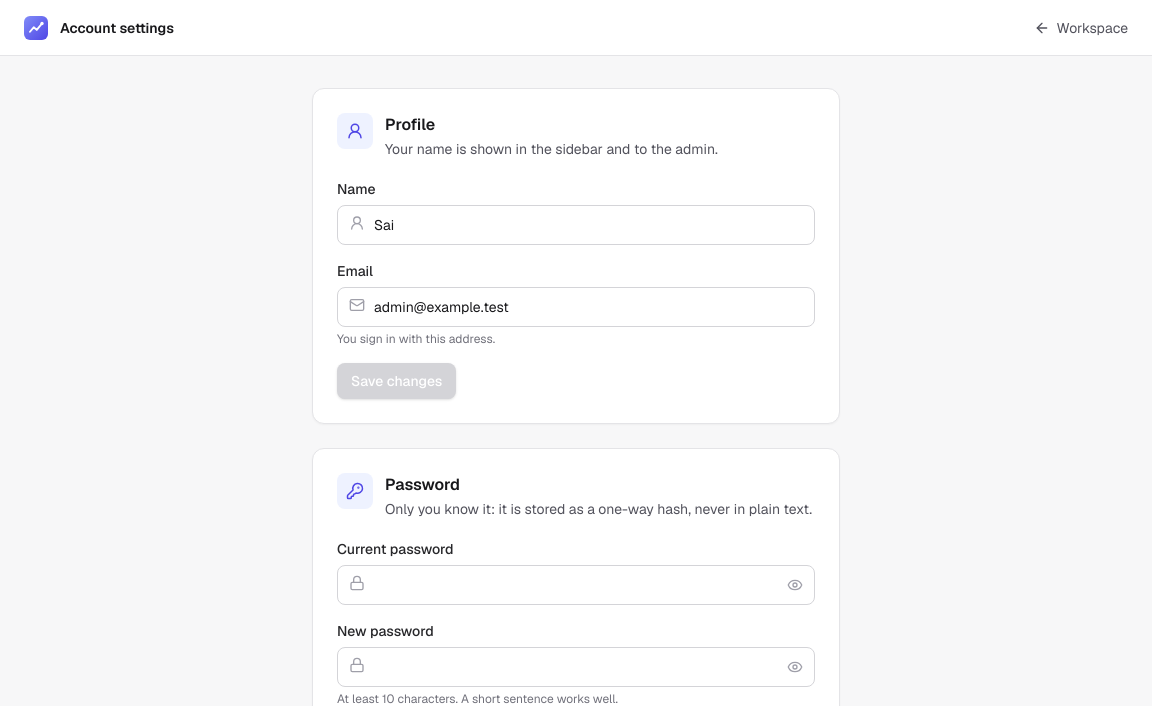
Test: Account settings › changes the email only after the password and the code sent to the new address
Replace the text in the field labelled "Email" with "new@example.test". click: [576, 307]
box: x1=337 y1=287 x2=815 y2=327
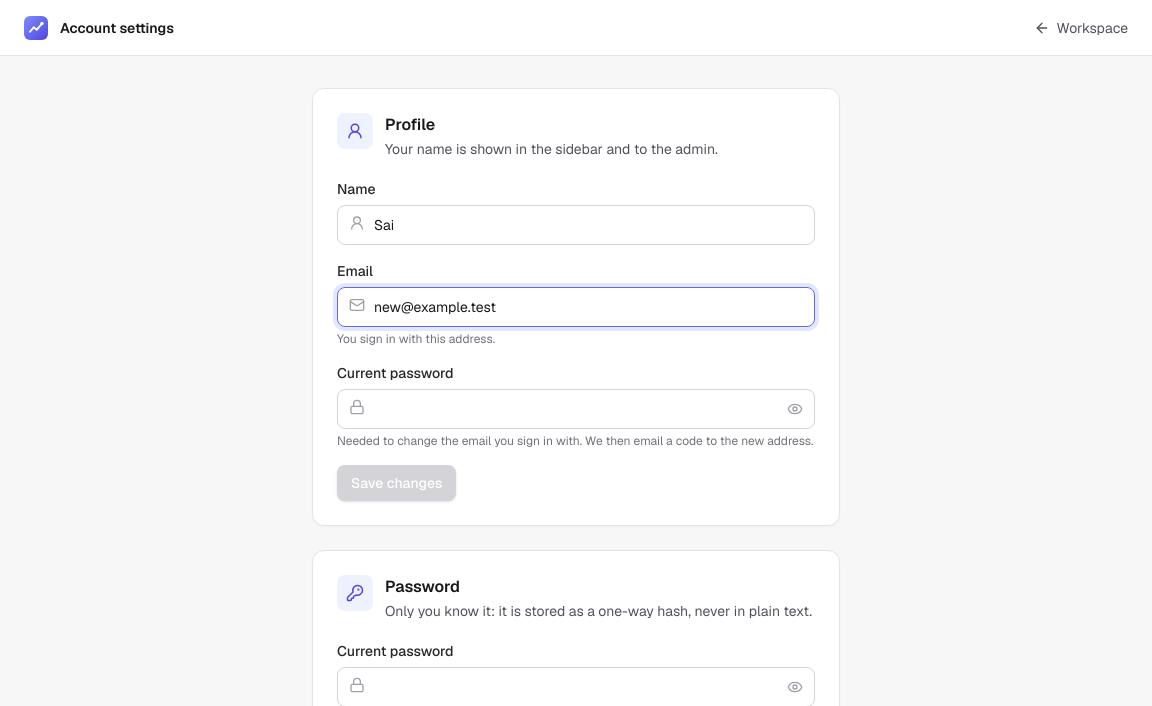
Expected: the button "Save changes" is disabled, x1=337 y1=465 x2=456 y2=501
Type "a good passphrase 1" into the password field labelled "Current password" below "You sign in with this address.". click: [576, 409]
box: x1=337 y1=389 x2=815 y2=429
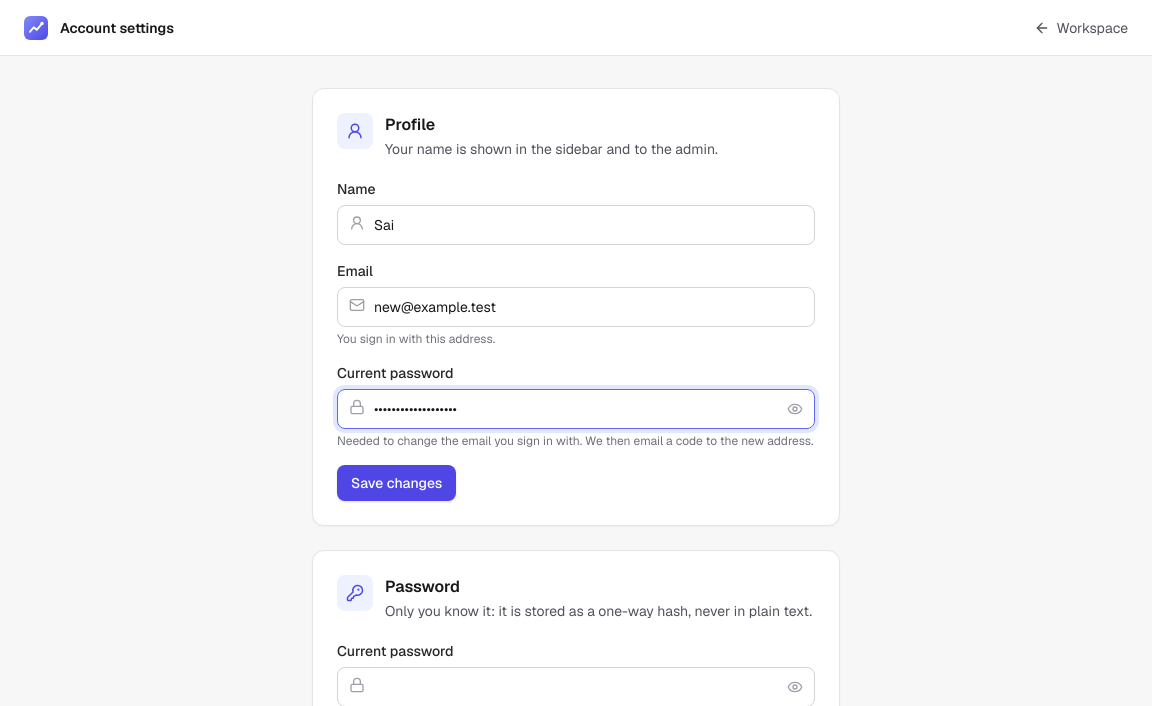
Click the button "Save changes". click: [397, 483]
box: x1=337 y1=465 x2=456 y2=501
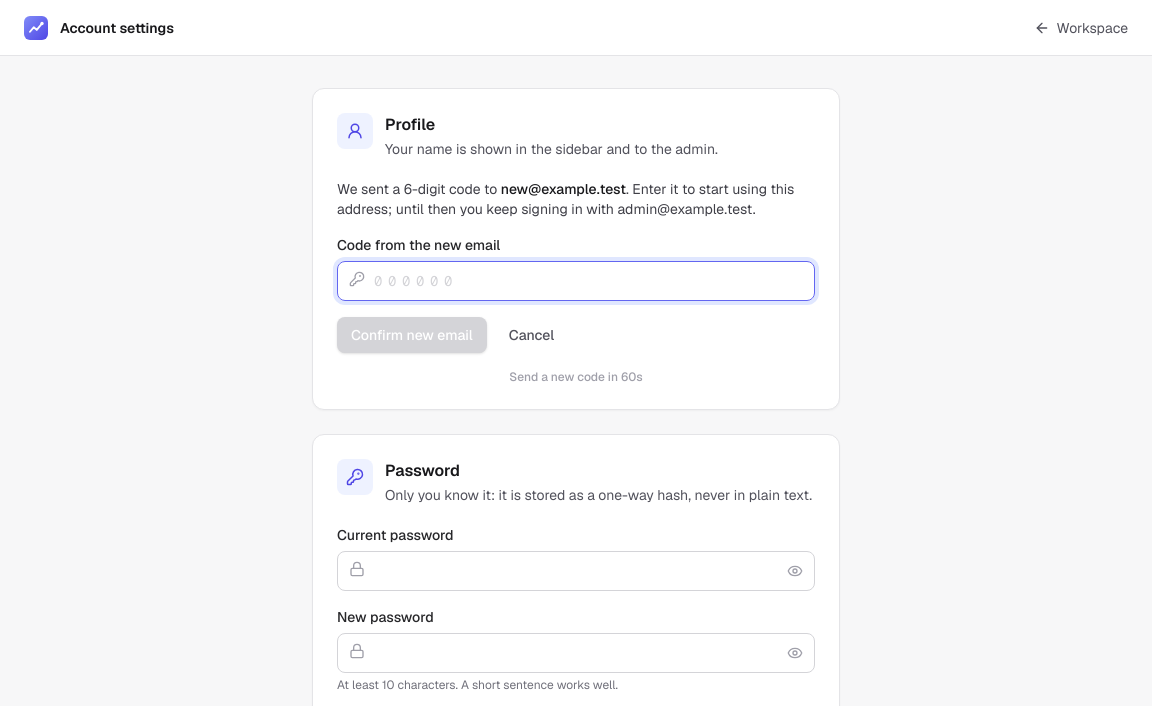
Expected: the text "until then you keep signing in with admin@example.test" is shown, x1=337 y1=179 x2=815 y2=219
Expected: the button "Confirm new email" is disabled, x1=337 y1=317 x2=487 y2=353
Type "12a34 56" into the field labelled "Code from the new email". click: [576, 281]
box: x1=337 y1=261 x2=815 y2=301
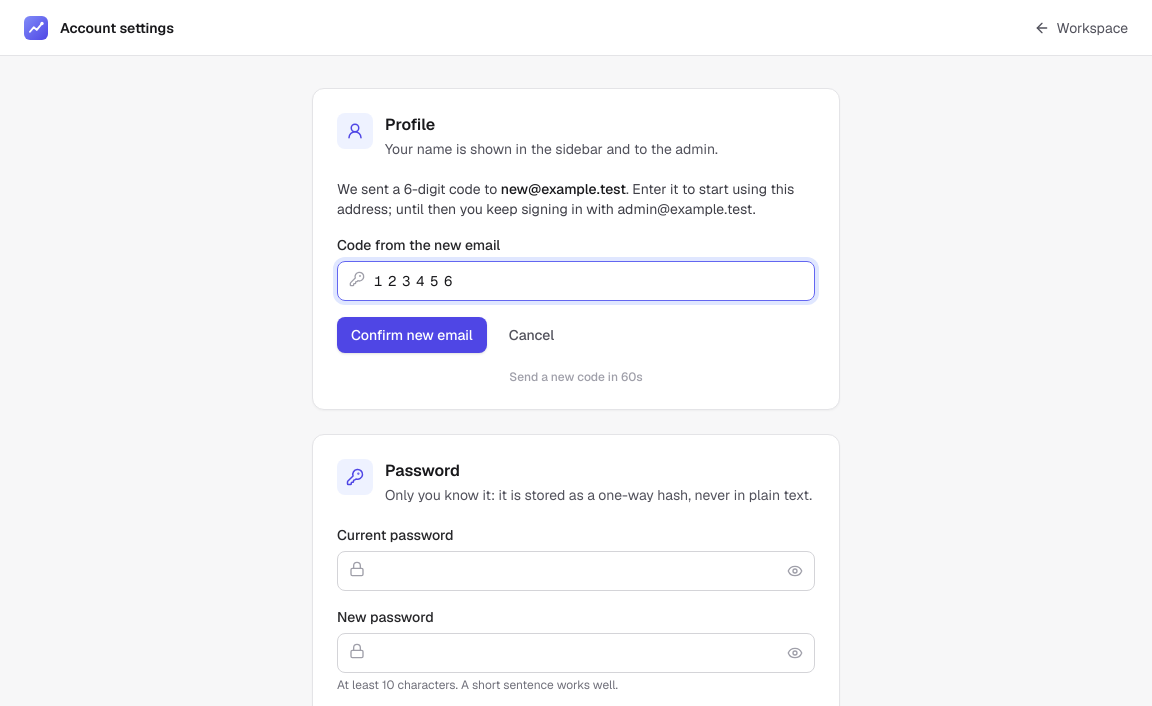
Expected: the field labelled "Code from the new email" holds "123456", x1=337 y1=261 x2=815 y2=301
Click the button "Confirm new email". click: [412, 335]
box: x1=337 y1=317 x2=487 y2=353
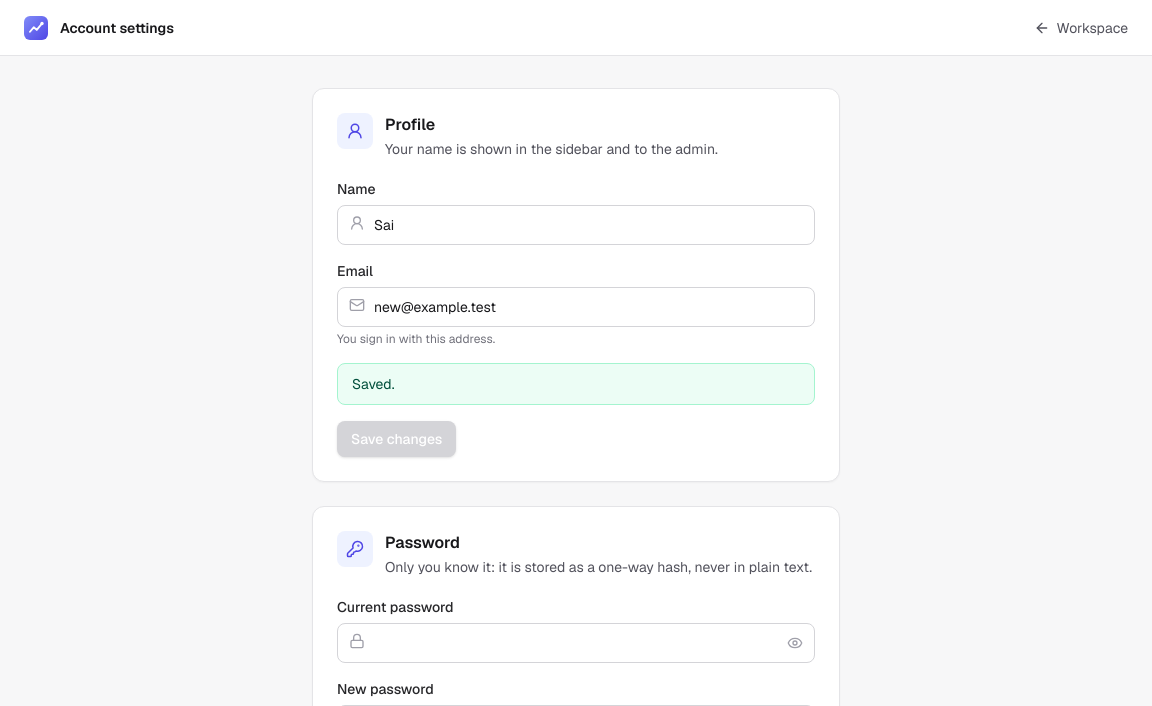
Expected: the text "Saved." is shown, x1=352 y1=374 x2=394 y2=394
Expected: the field labelled "Email" holds "new@example.test", x1=337 y1=287 x2=815 y2=327
